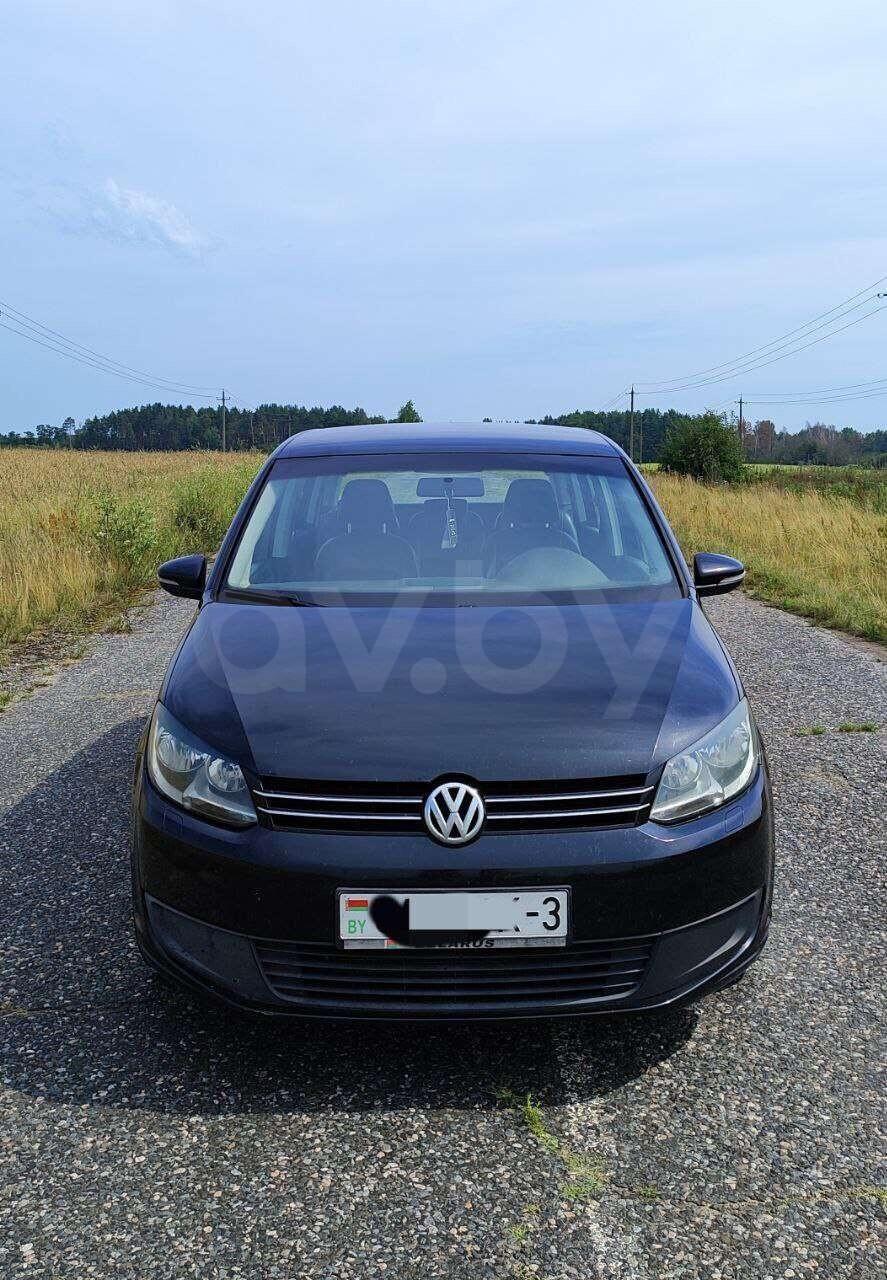Touran_2010-2015: (127, 415, 797, 1043)
